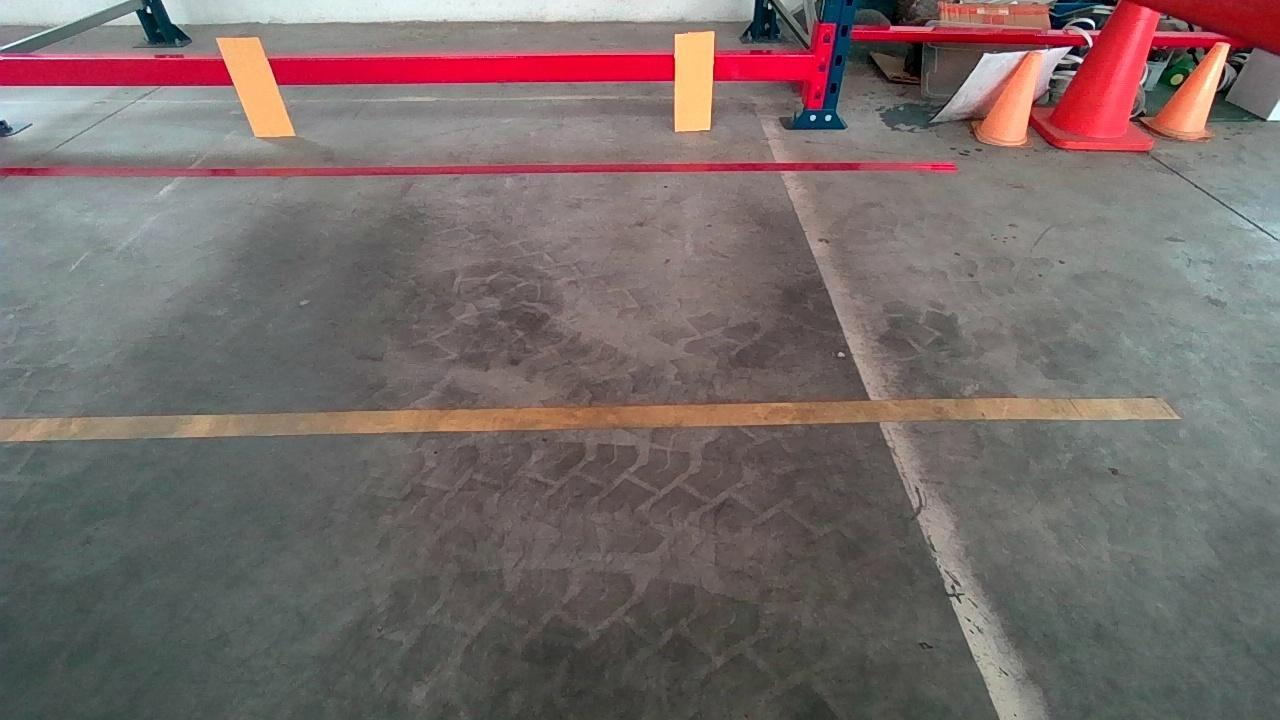h_rack: (0, 54, 814, 84)
orange_strip: (216, 36, 296, 135), (674, 32, 714, 130)
red_line: (0, 159, 956, 178)
yellow_line: (0, 396, 1182, 441)
